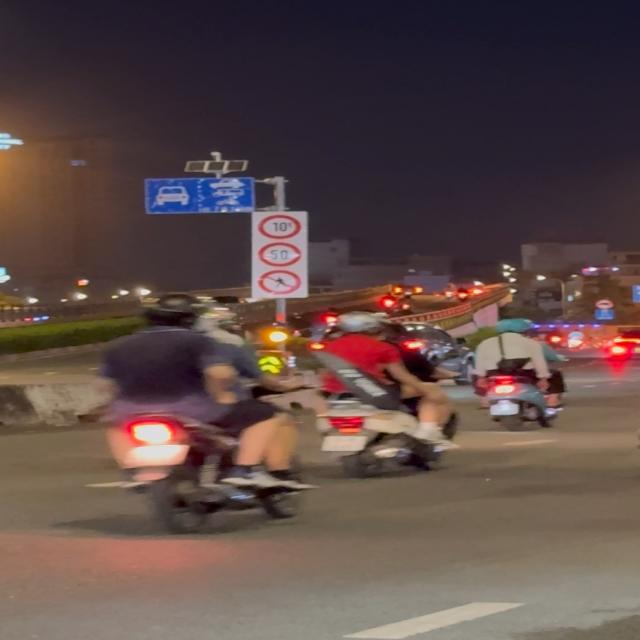Bien bao cam nguoi di bo: (256, 270, 301, 294)
Bien bao toc do toi da cho phep: (256, 241, 304, 268)
